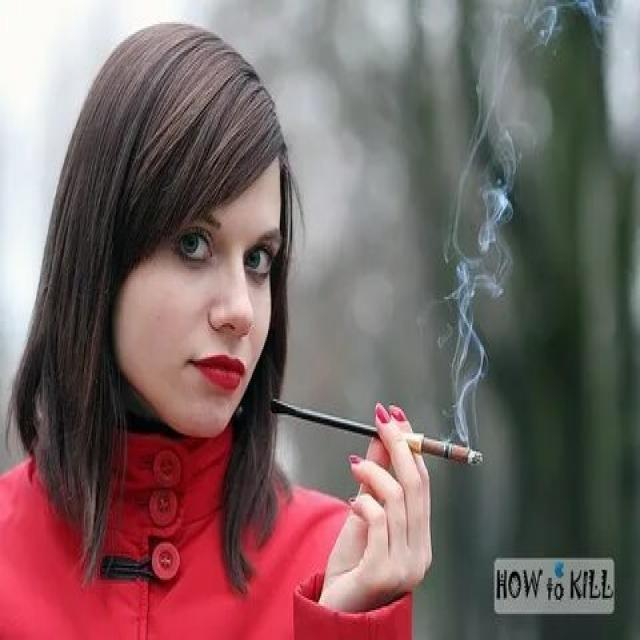cigarette: (270, 391, 486, 472)
